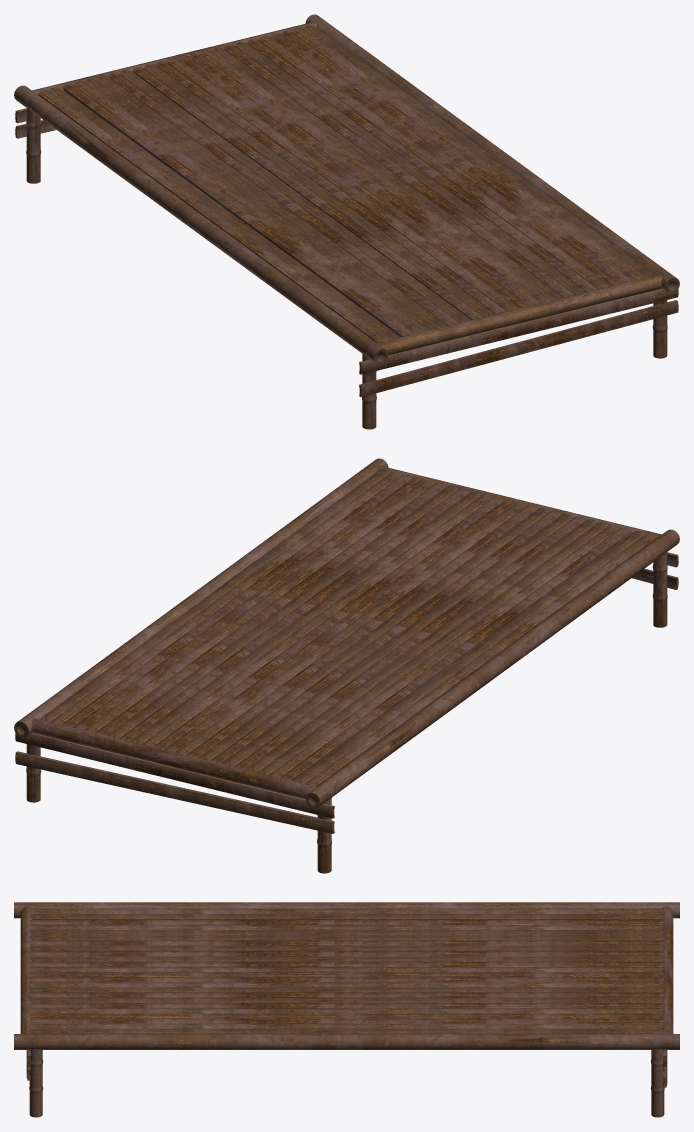
File: callar.fbx
The picture shows the model from 3 angles, top to bottom: view 1: azimuth 30°, elevation 25°; view 2: azimuth 150°, elevation 25°; view 3: azimuth 270°, elevation 25°; orthographic projection. The views are drawn at different scales.
Parts seen in each view (by area): view 1: Cube.003; view 2: Cube.003; view 3: Cube.003.
Part boxes in pixels (x1,y1,x2,y2): Cube.003: [14, 14, 679, 429]; Cube.003: [14, 458, 679, 873]; Cube.003: [14, 902, 679, 1117].
Bounding box in the file's own units: 109 × 28.42 × 214.
Materials: 1 (1 with a texture image).
